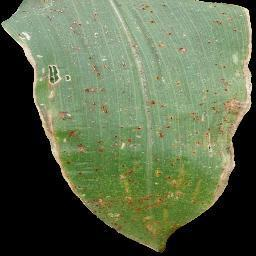Corn_Common_Rust: (28, 65, 256, 256), (117, 2, 190, 51), (204, 0, 256, 64), (65, 14, 108, 40), (14, 0, 67, 18), (13, 31, 44, 60), (82, 51, 103, 63)
